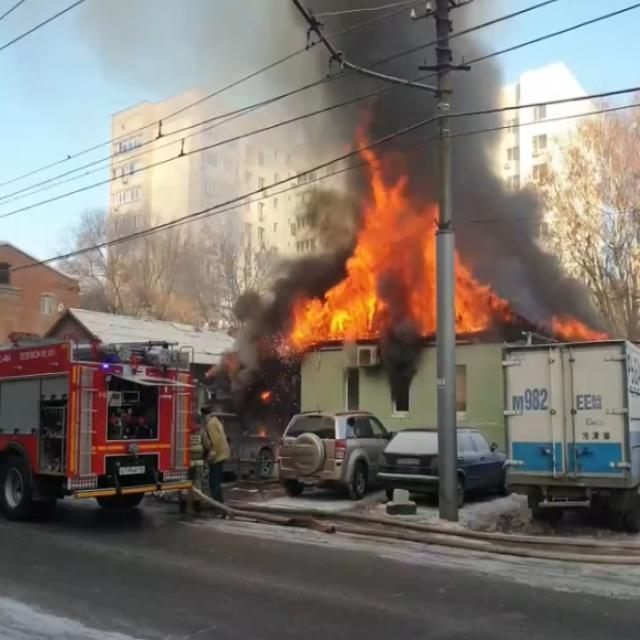Fire: (283, 120, 508, 346), (552, 313, 608, 341)
Smoke: (207, 0, 606, 436)
